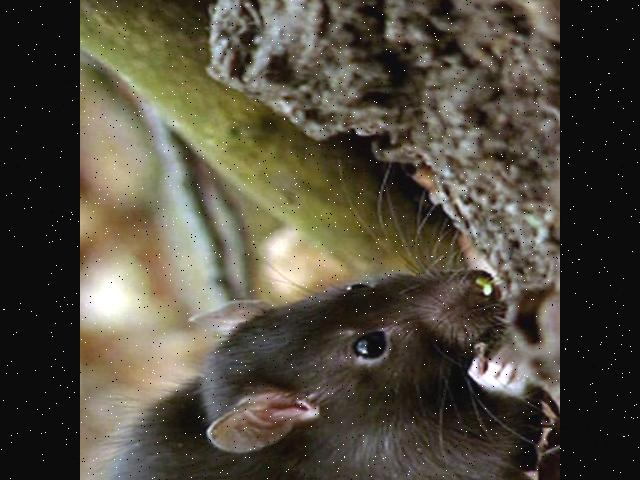Tikus: (91, 262, 547, 480)
